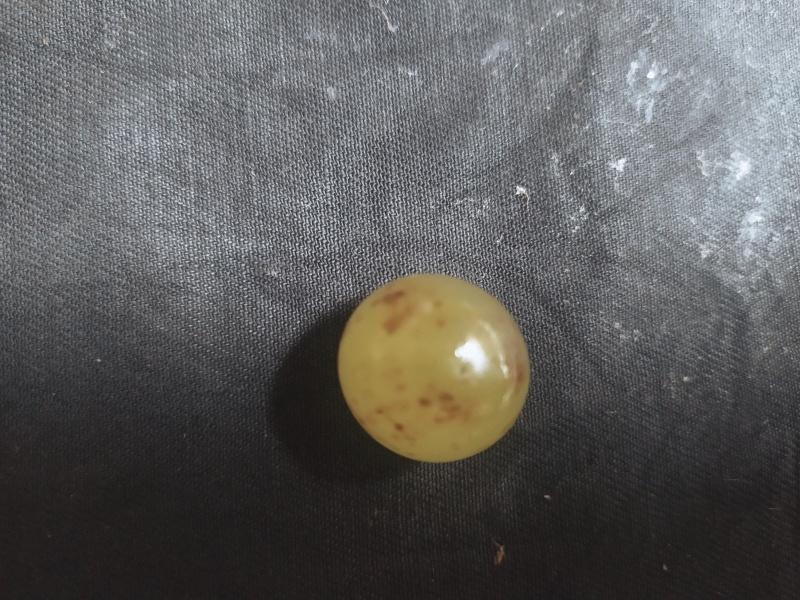Grape Rotten: (340, 270, 533, 466)
